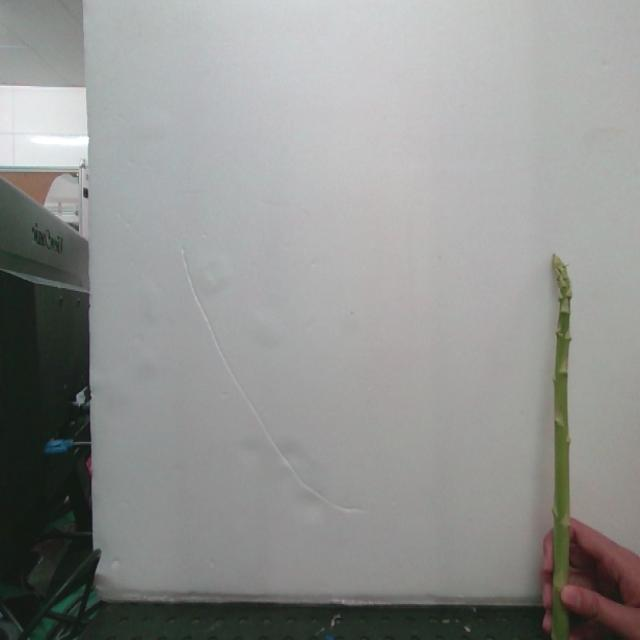aspargus: (545, 257, 577, 640)
